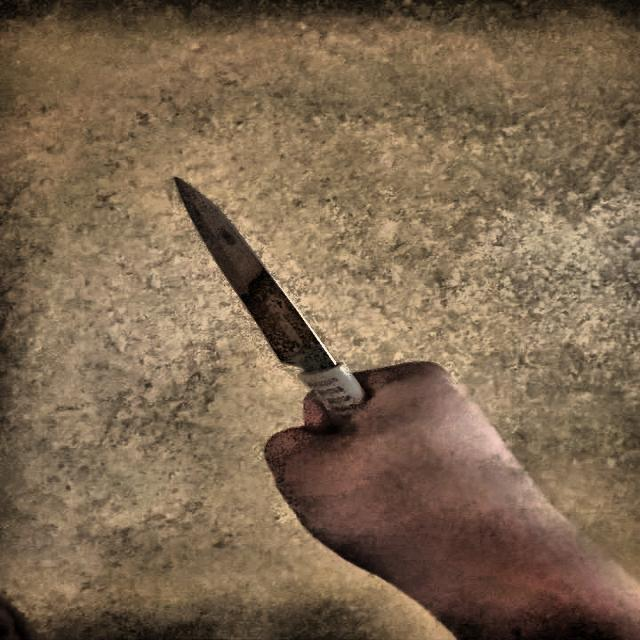knife: (171, 171, 371, 437)
